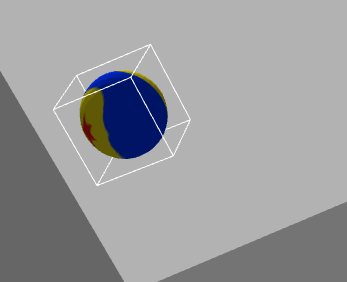toy story ball: (79, 69, 167, 159)
